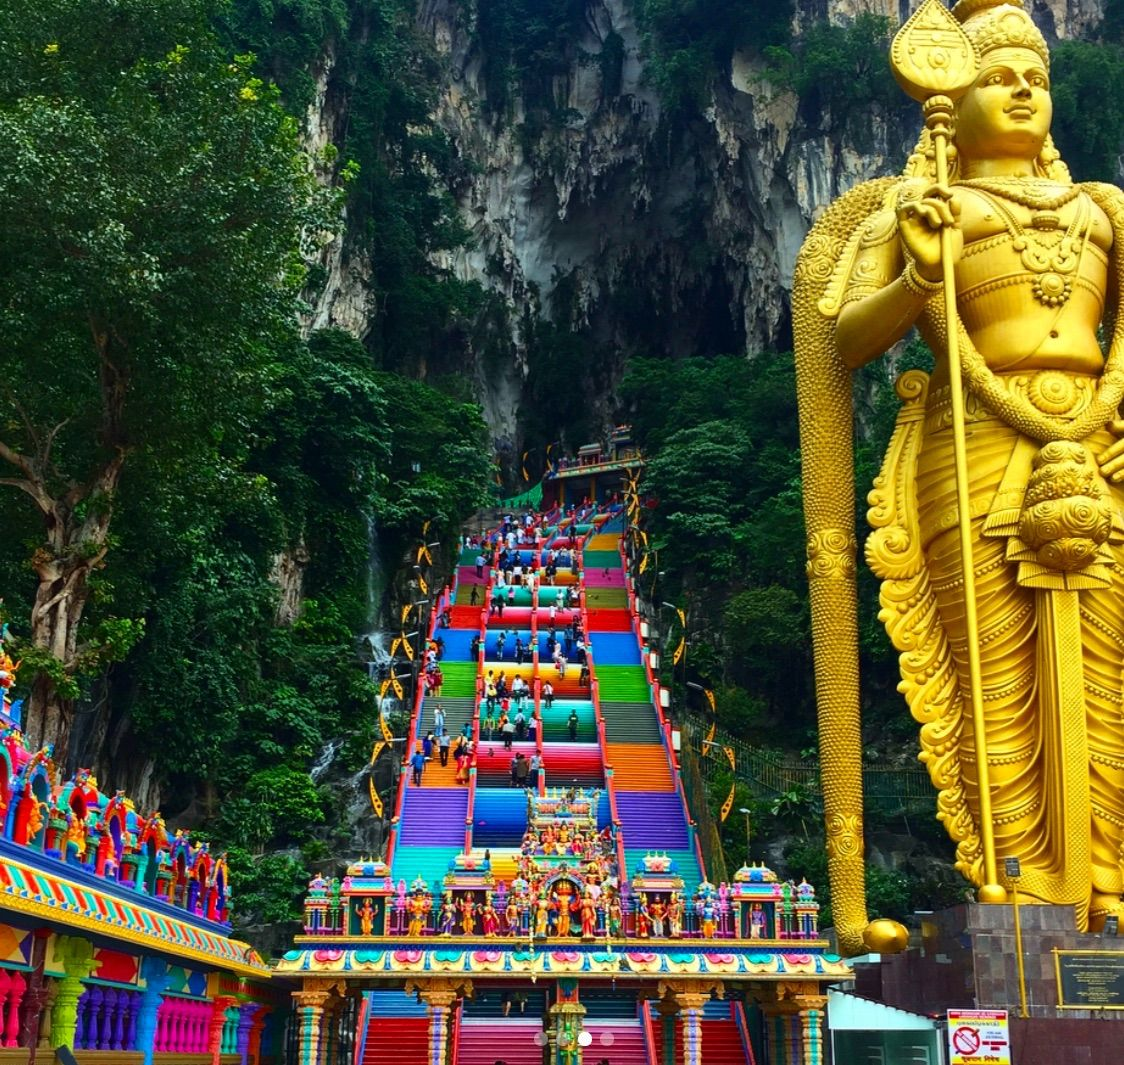Hindu Temple: (779, 4, 1124, 918)
